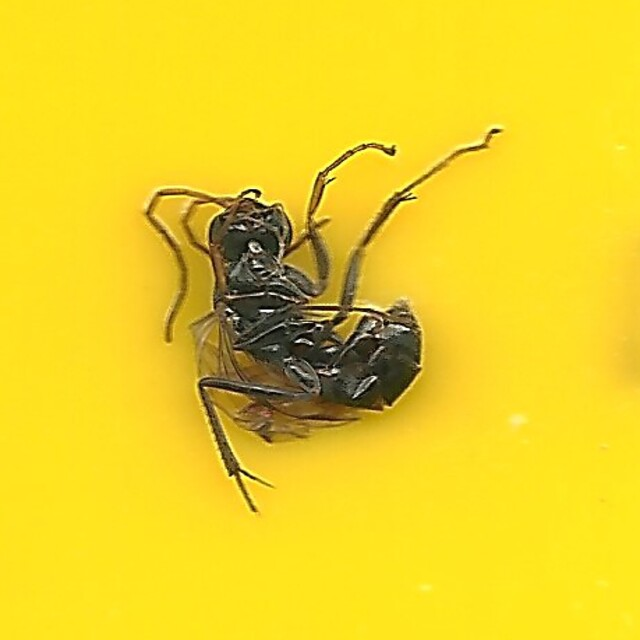Hymenoptera: (139, 123, 501, 517)
